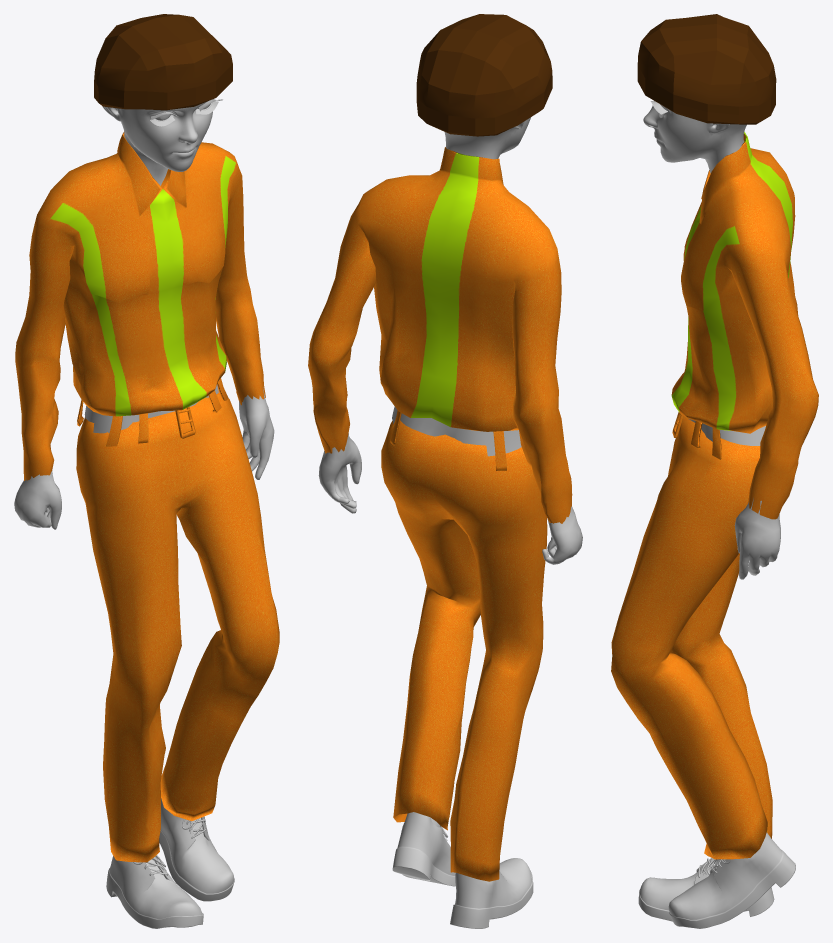
File: Gasolinero.fbx
3 views of the same model, side by side, from view 1: azimuth 30°, elevation 25°; view 2: azimuth 150°, elevation 25°; view 3: azimuth 270°, elevation 25° (orthographic).
Visible parts, largest first — view 1: Bottoms, Tops, Hats1, Shoes, Body, Gloves; view 2: Tops, Bottoms, Hats1, Shoes, Body, Gloves; view 3: Bottoms, Tops, Hats1, Shoes, Body, Gloves.
Boxes of the visible parts, x1,y1,x2,y2 form: Bottoms: (76, 378, 279, 862); Tops: (15, 131, 265, 480); Hats1: (94, 14, 232, 110); Shoes: (106, 798, 234, 928); Body: (84, 99, 218, 433); Gloves: (14, 387, 274, 529); Tops: (308, 147, 572, 523); Bottoms: (381, 410, 547, 881); Hats1: (416, 14, 552, 136); Shoes: (392, 812, 533, 928); Body: (392, 117, 530, 827); Gloves: (318, 433, 582, 564); Bottoms: (611, 412, 798, 859); Tops: (671, 132, 818, 519); Hats1: (637, 14, 776, 124); Shoes: (638, 832, 795, 928); Body: (643, 100, 765, 445); Gloves: (734, 498, 780, 579).
Bounding box in the file's own units: 49.17 × 165 × 34.84.
